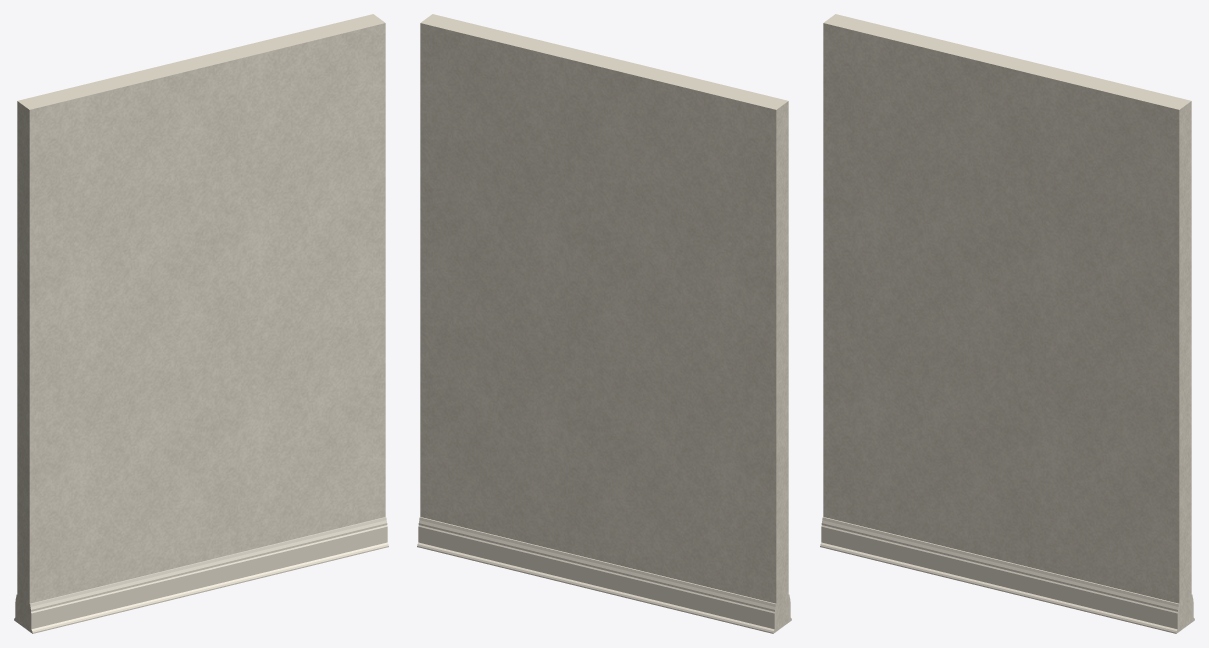
File: interior_wall_plain.glb
3 renders of one model, left to right at view 1: azimuth 30°, elevation 25°; view 2: azimuth 150°, elevation 25°; view 3: azimuth 330°, elevation 25°, orthographic.
Parts seen in each view (by area): view 1: interior_wall_plain_plaster, molduras; view 2: interior_wall_plain_plaster, molduras; view 3: interior_wall_plain_plaster, molduras.
Part boxes in pixels (x1,y1,x2,y2): interior_wall_plain_plaster: (17,14,385,631); molduras: (14,517,388,633); interior_wall_plain_plaster: (420,14,788,631); molduras: (417,517,791,633); interior_wall_plain_plaster: (823,14,1191,631); molduras: (820,517,1194,633).
Bounding box in the file's own units: 2 × 2.8 × 0.18.
2 materials, 1 textured.
